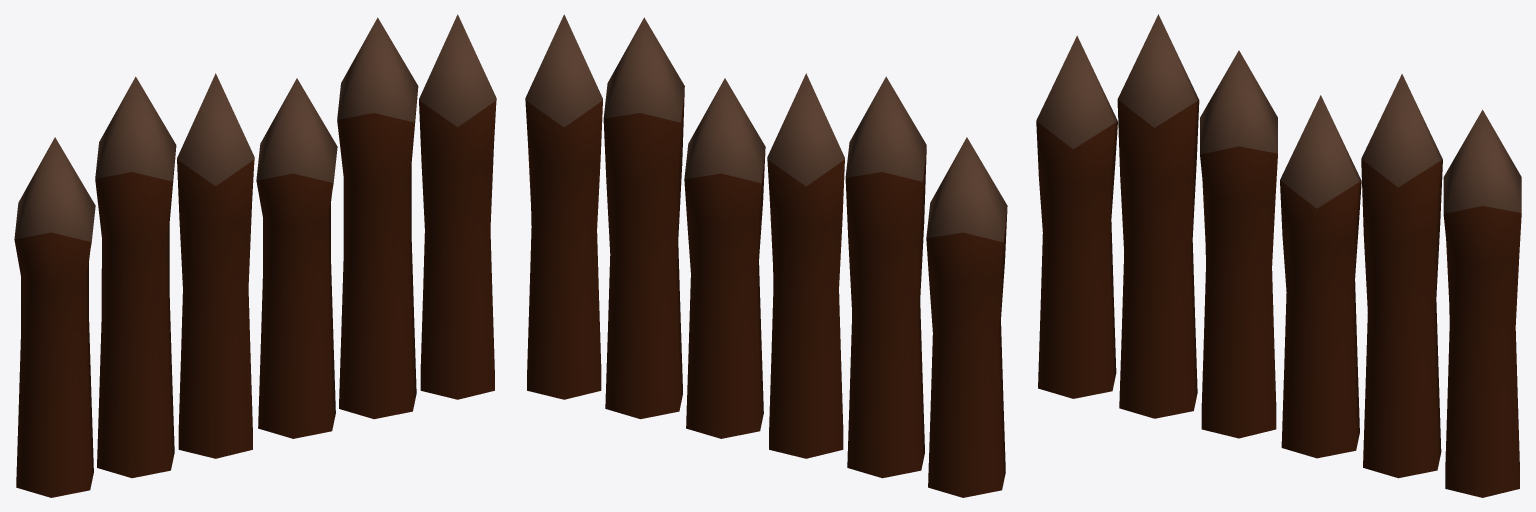
Rendered from Barricade.FBX.
3 renders of one model, left to right at view 1: azimuth 30°, elevation 25°; view 2: azimuth 150°, elevation 25°; view 3: azimuth 330°, elevation 25°, orthographic.
Visible parts, largest first — view 1: Cylinder004; view 2: Cylinder004; view 3: Cylinder004.
Part boxes in pixels (left/top/right/bottom): Cylinder004: left=14, top=14, right=496, bottom=497; Cylinder004: left=525, top=14, right=1007, bottom=497; Cylinder004: left=1036, top=14, right=1521, bottom=497.
Bounding box in the file's own units: 84.33 × 64.43 × 12.36.
